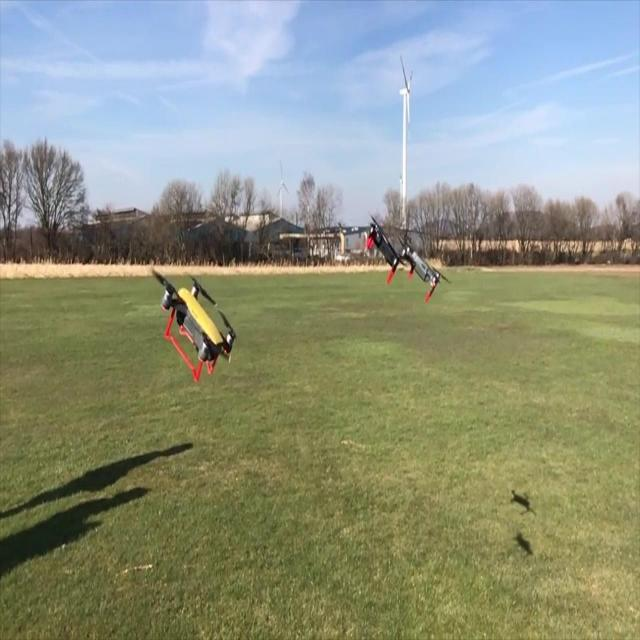UAV: (152, 268, 236, 382), (398, 236, 451, 302), (366, 212, 407, 286)
